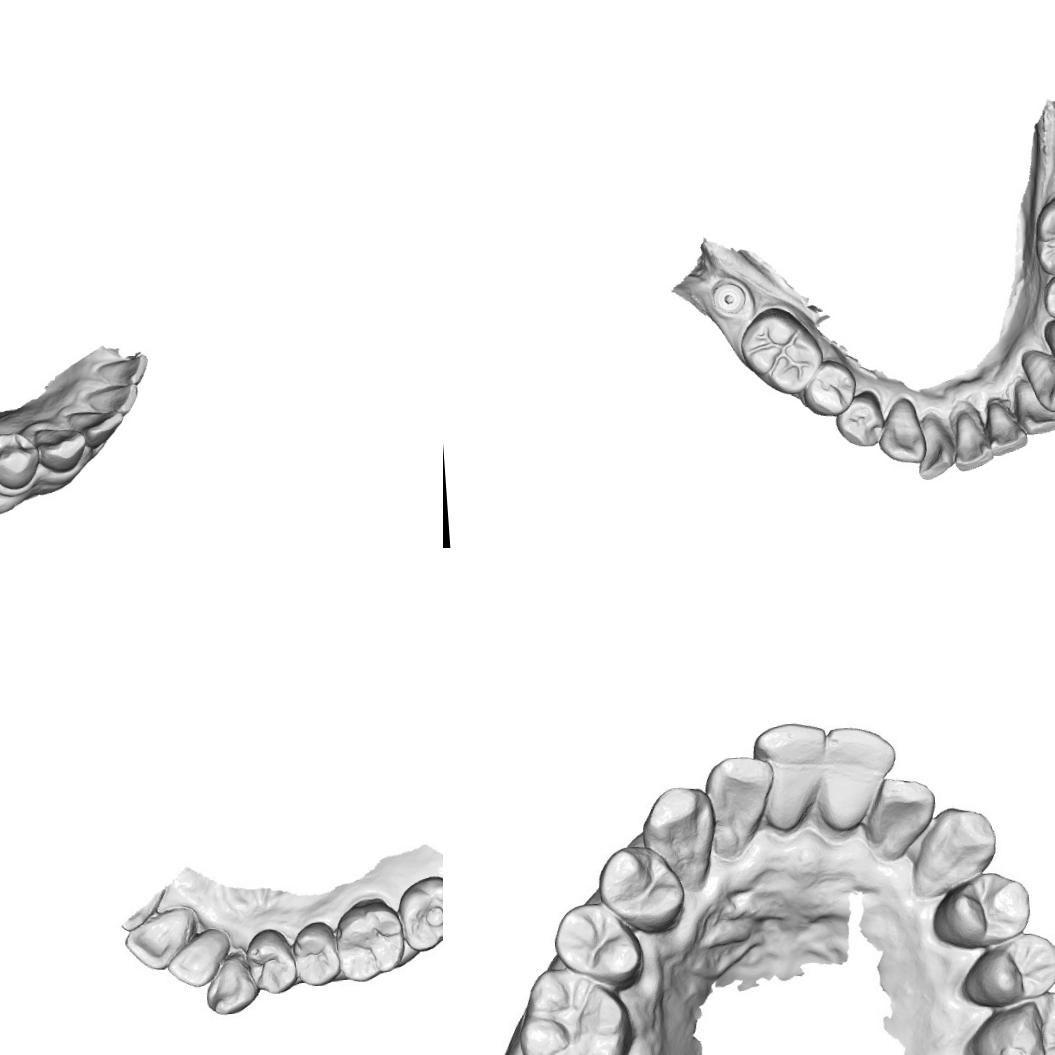canine: (638, 782, 720, 894), (912, 800, 1000, 896), (876, 394, 927, 468), (204, 954, 256, 1018), (33, 422, 89, 474), (1019, 345, 1055, 414)
implant: (709, 274, 750, 322)
incisor: (818, 722, 895, 838), (700, 751, 778, 861), (754, 719, 828, 831), (866, 773, 936, 868), (120, 908, 197, 972), (164, 932, 225, 990), (982, 394, 1028, 458), (1010, 374, 1055, 439), (949, 407, 992, 473), (912, 414, 953, 482), (64, 408, 124, 450), (94, 350, 150, 389), (84, 380, 140, 418)
molar: (516, 964, 636, 1055), (735, 304, 820, 396), (334, 895, 408, 984), (967, 990, 1055, 1055), (393, 872, 443, 955), (1027, 189, 1055, 283)
premolar: (936, 868, 1034, 956), (593, 839, 687, 929), (959, 926, 1055, 1014), (550, 897, 642, 983), (288, 916, 344, 989), (242, 926, 300, 996), (830, 388, 884, 449), (802, 364, 856, 414), (0, 429, 41, 491), (1037, 312, 1055, 371), (1039, 272, 1055, 324)
